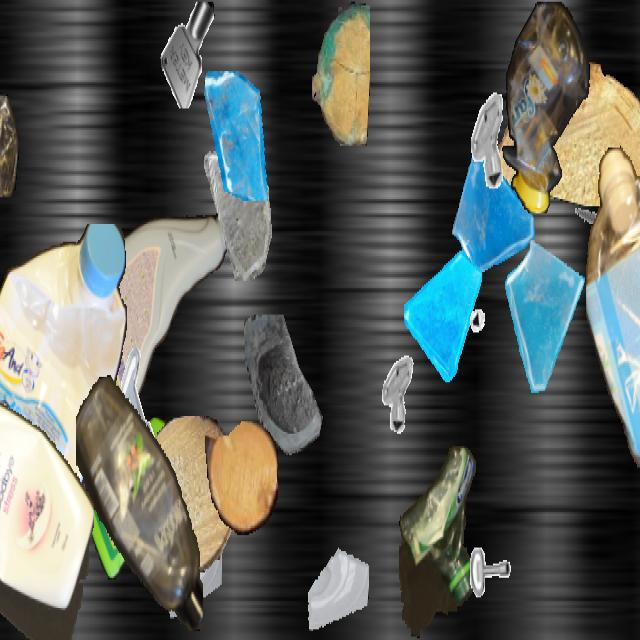glass: (241, 314, 335, 482), (499, 236, 591, 400), (451, 135, 539, 292), (404, 244, 482, 382), (201, 149, 275, 281), (201, 71, 273, 199), (307, 526, 369, 636), (165, 517, 221, 617), (0, 354, 25, 464)
metal: (109, 345, 171, 455), (159, 2, 219, 108), (457, 89, 515, 192), (464, 539, 520, 638), (371, 348, 419, 434), (570, 185, 614, 263), (467, 277, 505, 345)
plastic: (0, 224, 130, 590), (56, 203, 230, 430), (76, 372, 202, 638), (0, 390, 94, 638), (501, 2, 591, 212), (82, 416, 192, 580), (586, 144, 640, 478), (399, 443, 477, 638), (0, 76, 19, 198)
wood: (495, 62, 640, 204), (139, 416, 237, 572), (312, 2, 370, 144), (205, 421, 277, 535)
